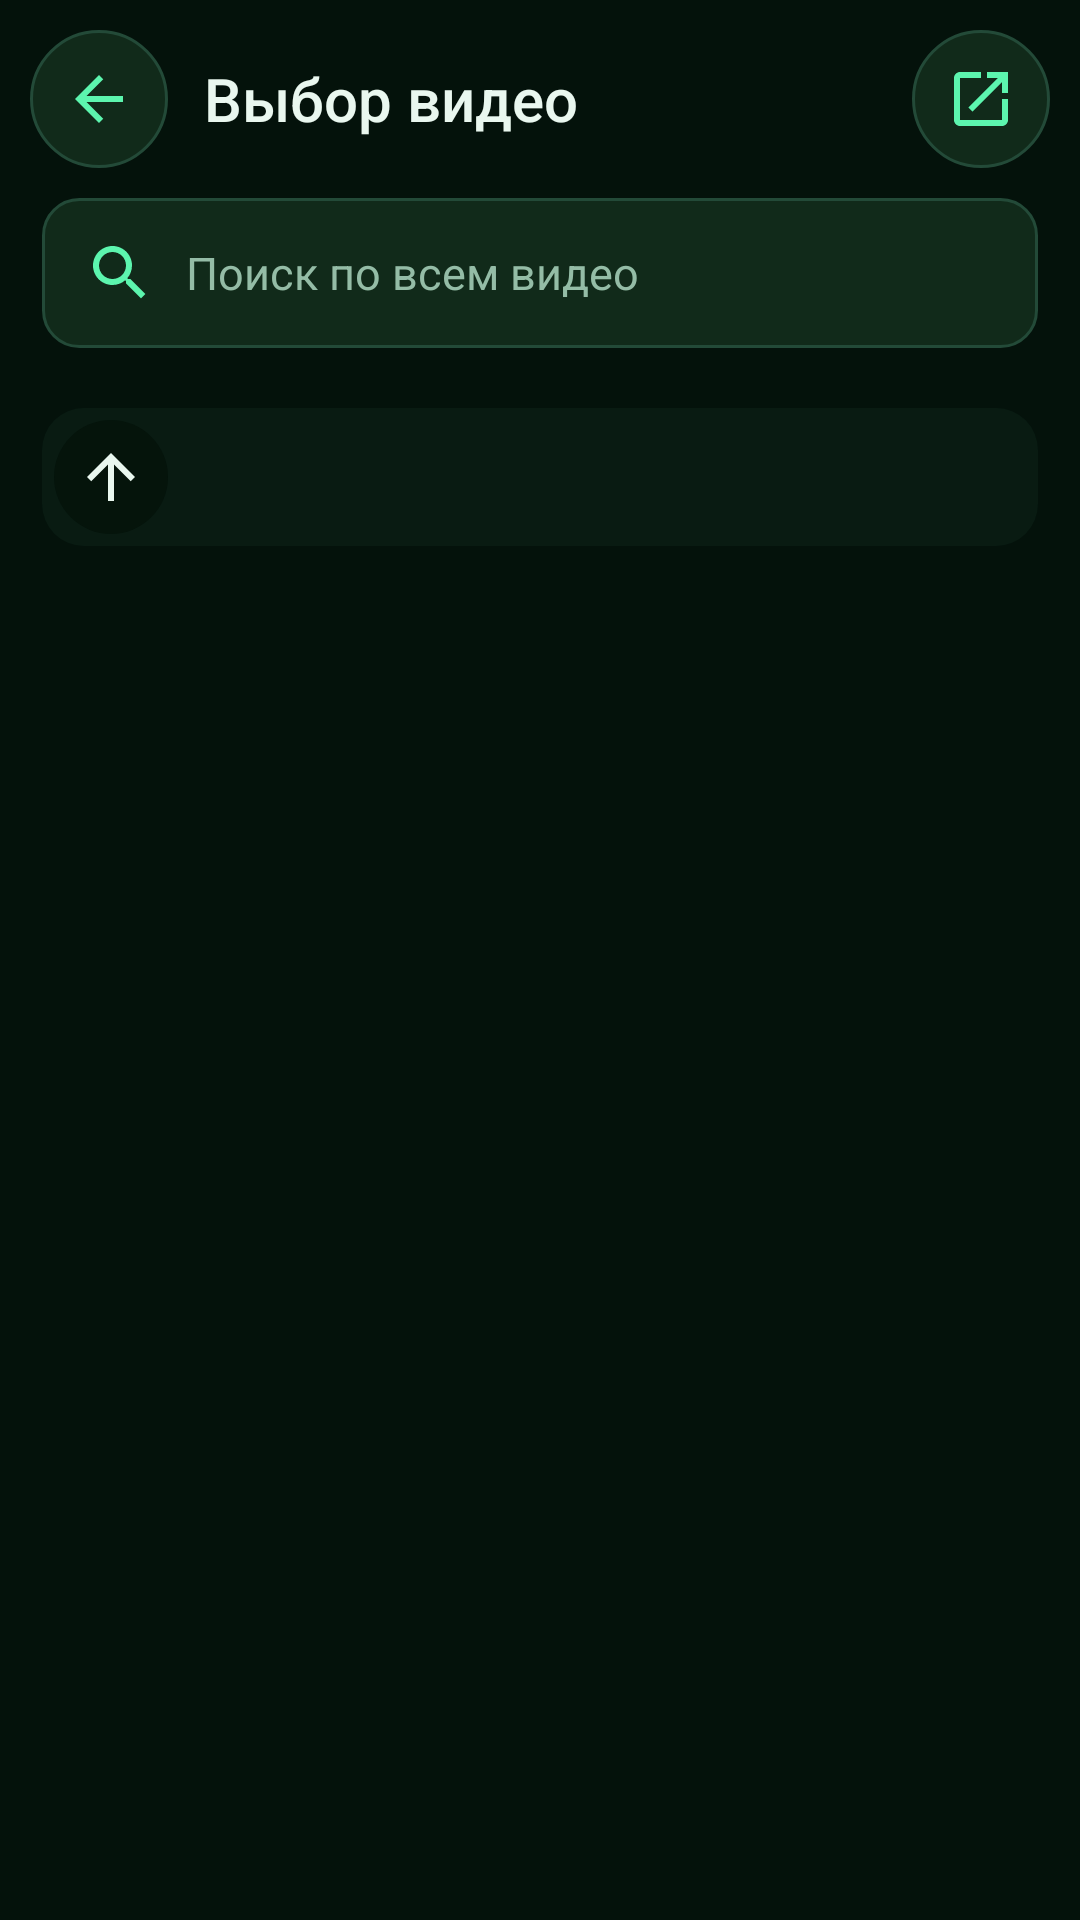

Icon bounding boxes for this 1080×1920 phone screenshot, format (x1, y1, x2, y2):
Вверх: (87, 453, 135, 501)
Назад: (30, 30, 168, 168)
Открыть через другое приложение: (912, 30, 1050, 168)
